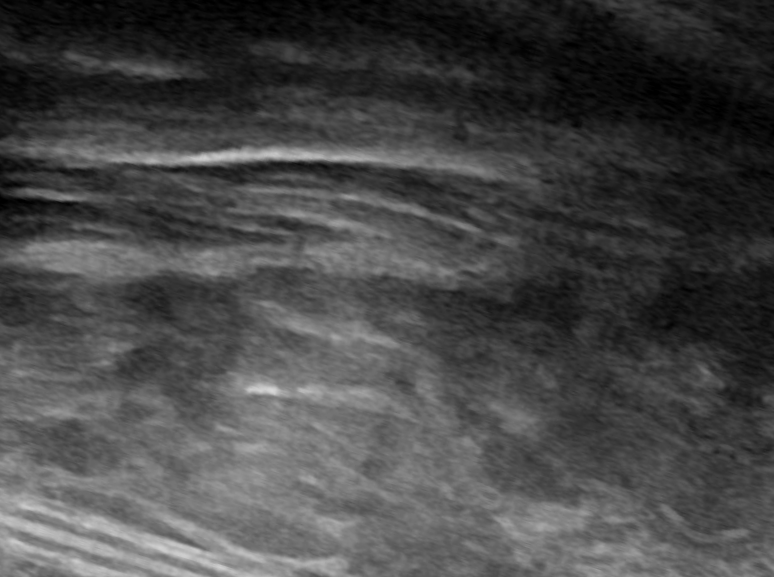Normal: (1, 3, 772, 577)
